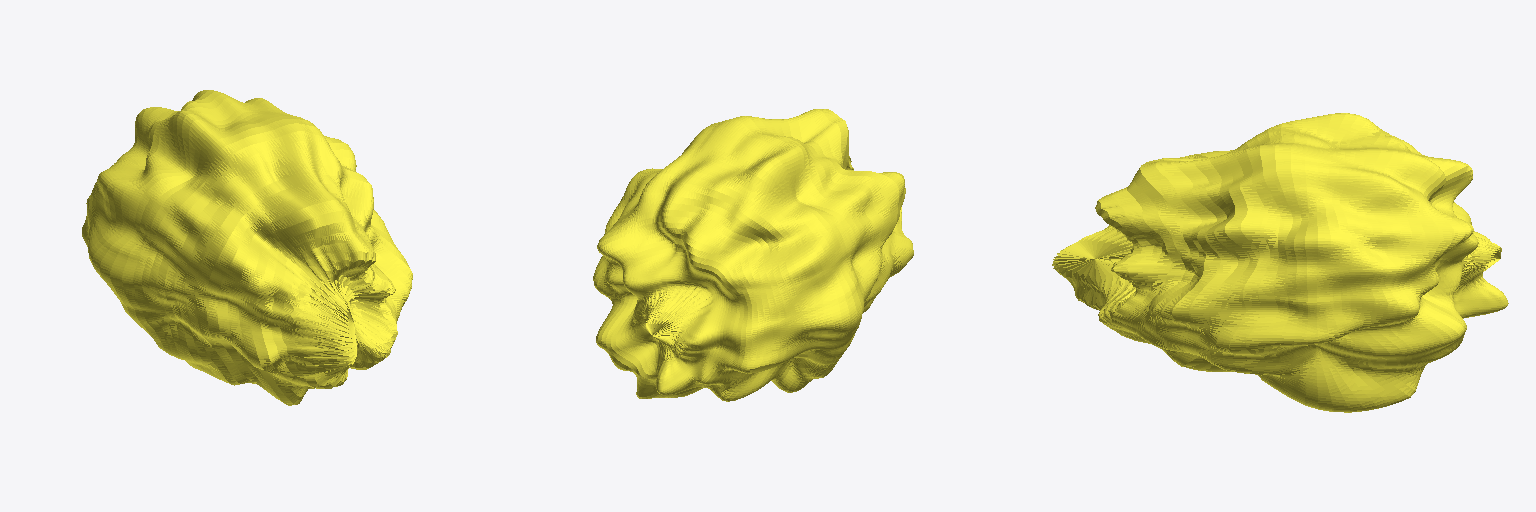
3 views of the same model, side by side, from view 1: azimuth 30°, elevation 25°; view 2: azimuth 150°, elevation 25°; view 3: azimuth 270°, elevation 25° (orthographic).
Visible parts, largest first — view 1: Cylinder; view 2: Cylinder; view 3: Cylinder.
Part boxes in pixels (bbox=[...]): Cylinder: bbox=[82, 90, 412, 405]; Cylinder: bbox=[593, 109, 913, 401]; Cylinder: bbox=[1052, 113, 1508, 412].
Bounding box in the file's own units: 0.9779 × 0.9592 × 1.58.
Materials: 1 (1 with a texture image).